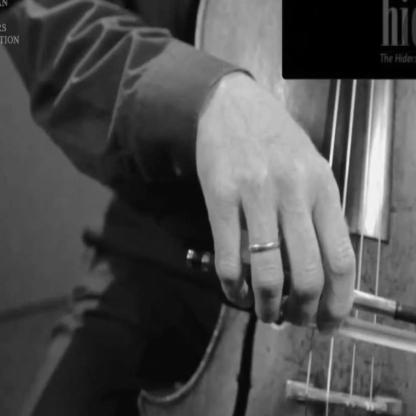good: (188, 81, 360, 342)
